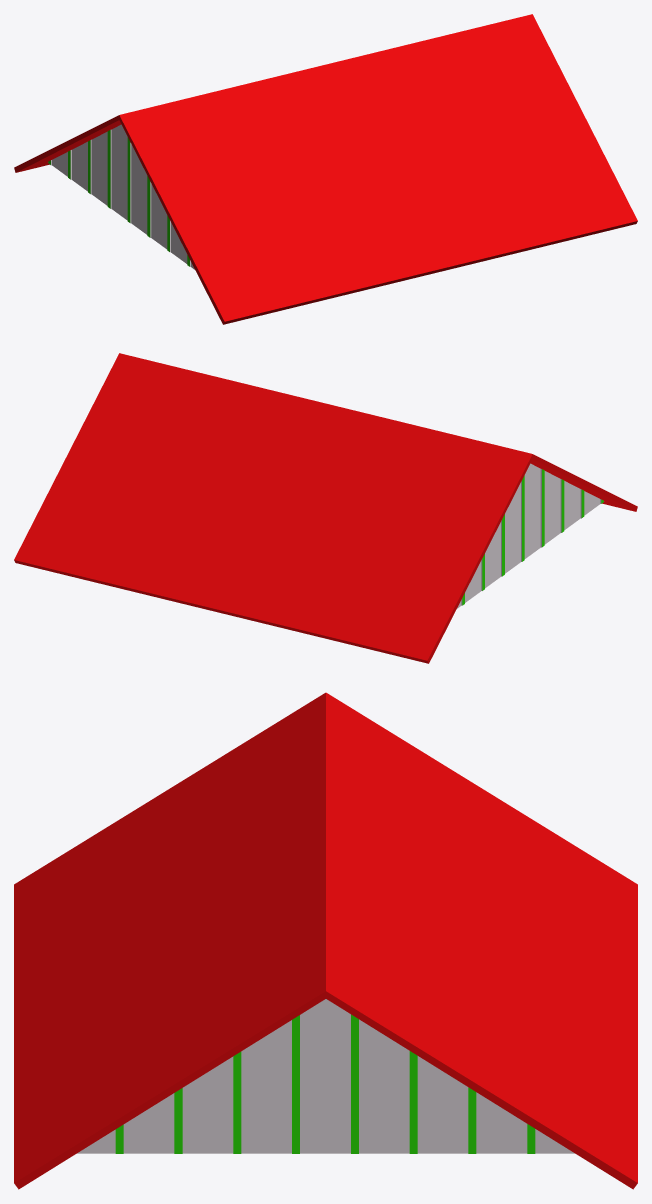
Rendered from RoofV1.fbx.
3 renders of one model, top to bottom at view 1: azimuth 30°, elevation 25°; view 2: azimuth 150°, elevation 25°; view 3: azimuth 270°, elevation 25°, orthographic. The views are drawn at different scales.
Visible parts, largest first — view 1: roof1; view 2: roof1; view 3: roof1.
Part boxes in pixels (x1,y1,x2,y2): roof1: (14, 14, 637, 324); roof1: (14, 353, 637, 663); roof1: (14, 692, 637, 1189).
Size of the model in its own units: 617 by 191 by 545.
